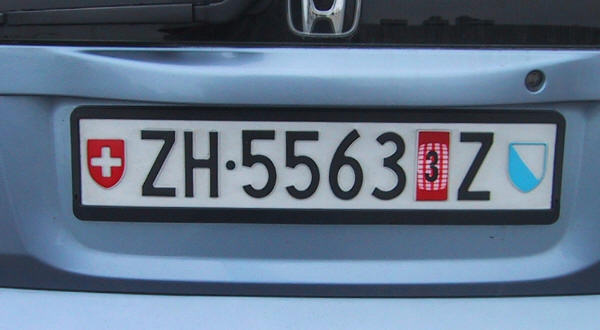license_plate: (76, 114, 558, 213)
